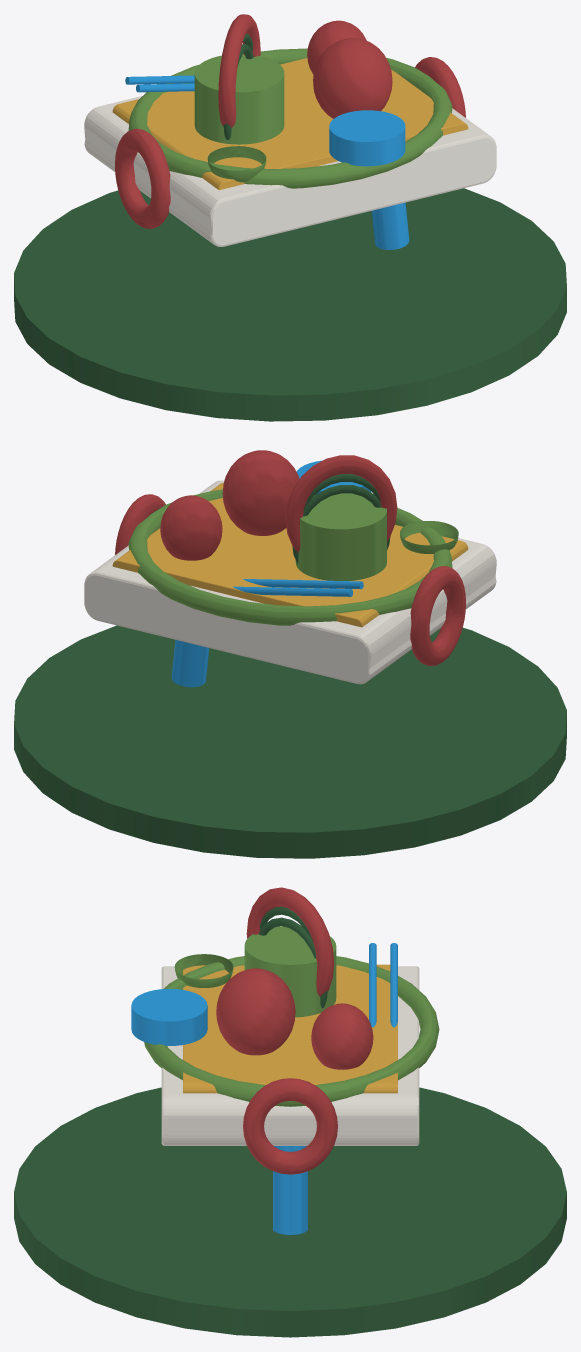
File: 1201_唐图鉴_百戏.glb
3 renders of one model, top to bottom at view 1: azimuth 30°, elevation 25°; view 2: azimuth 150°, elevation 25°; view 3: azimuth 270°, elevation 25°, orthographic.
Parts seen in each view (by area): view 1: card_1201; view 2: card_1201; view 3: card_1201.
Part boxes in pixels (x1,y1,x2,y2): card_1201: (14,14,566,421); card_1201: (14,450,566,858); card_1201: (14,887,566,1337).
Size of the model in its own units: 1.69 by 1 by 1.65.
